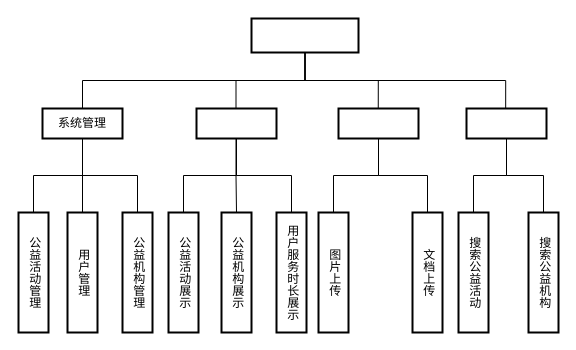
Image size: 576x350. Some labels were removed from this diagram. The shapes that lost their labels are listed below. From the top down, each one's centre as x and y in pixels, then its label:
At (304,35): "公益上海App".
At (236,123): "内容展示".
At (378,123): "文件上传".
At (506,123): "搜索".
